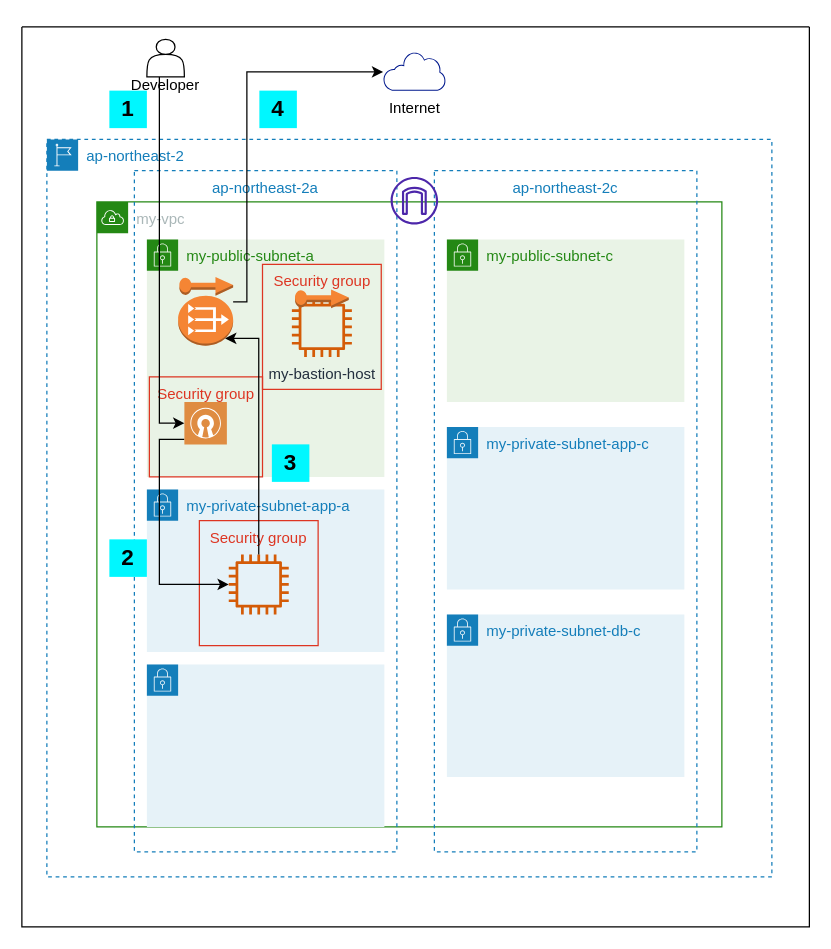
This 831x949 diagram has some shape labels left out. Each missing label, with the centre of its shape:
"my-igw" goes at (414,200).
"my-natgateway" goes at (205,320).
"my-private-ec2" goes at (258,584).
"my-private-subnet-db-a" goes at (265,745).
"opneVpn" goes at (205,422).
